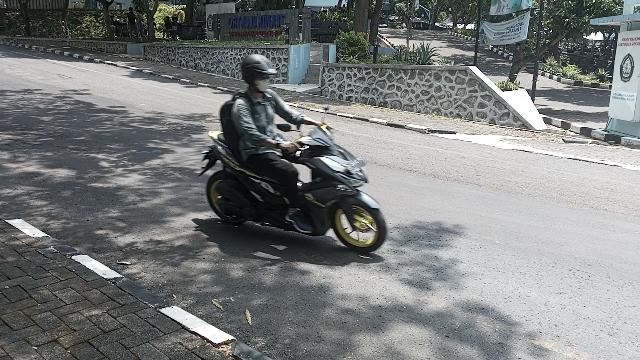helm: (241, 55, 281, 96)
motor: (195, 106, 391, 257)
